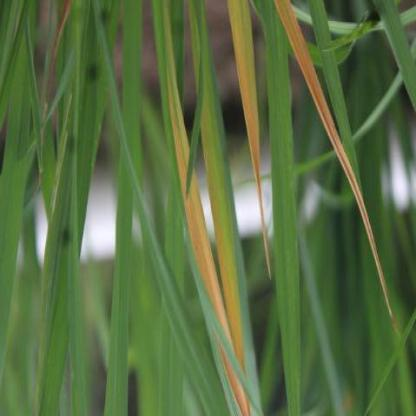Tungro: (276, 1, 393, 318), (161, 2, 247, 416), (185, 1, 244, 371), (228, 1, 270, 267)
